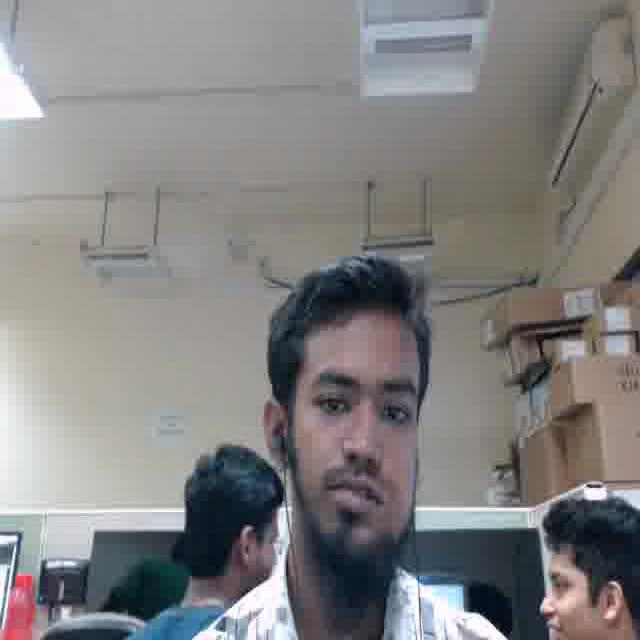Engaged: (290, 317, 424, 555)
